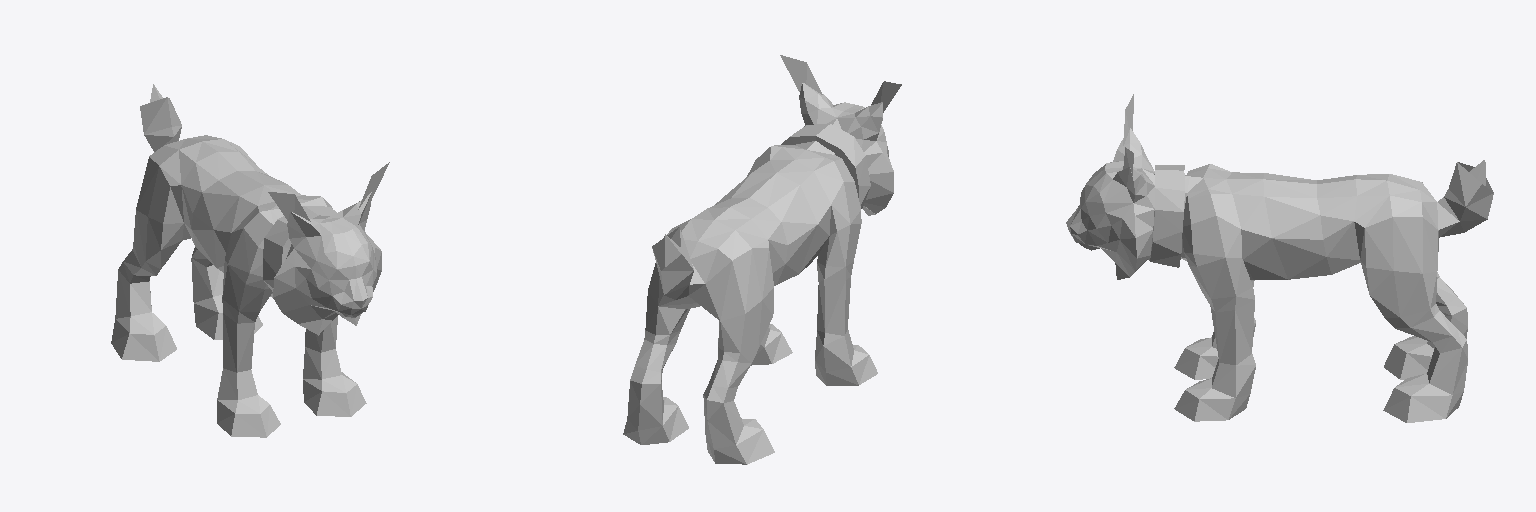
File: catobj.obj
3 renders of one model, left to right at view 1: azimuth 30°, elevation 25°; view 2: azimuth 150°, elevation 25°; view 3: azimuth 270°, elevation 25°, orthographic.
Parts seen in each view (by area): view 1: PetCat; view 2: PetCat; view 3: PetCat.
Part boxes in pixels (bbox=[...]): PetCat: bbox=[111, 84, 389, 437]; PetCat: bbox=[623, 55, 901, 464]; PetCat: bbox=[1066, 94, 1493, 422].
Size of the model in its own units: 0.7044 by 1.26 by 1.84.